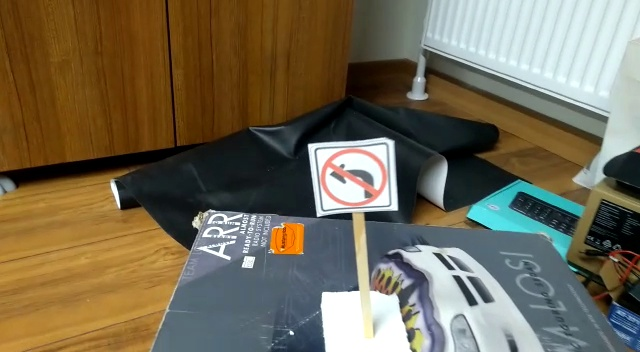sola_donulmez: (321, 140, 391, 211)
